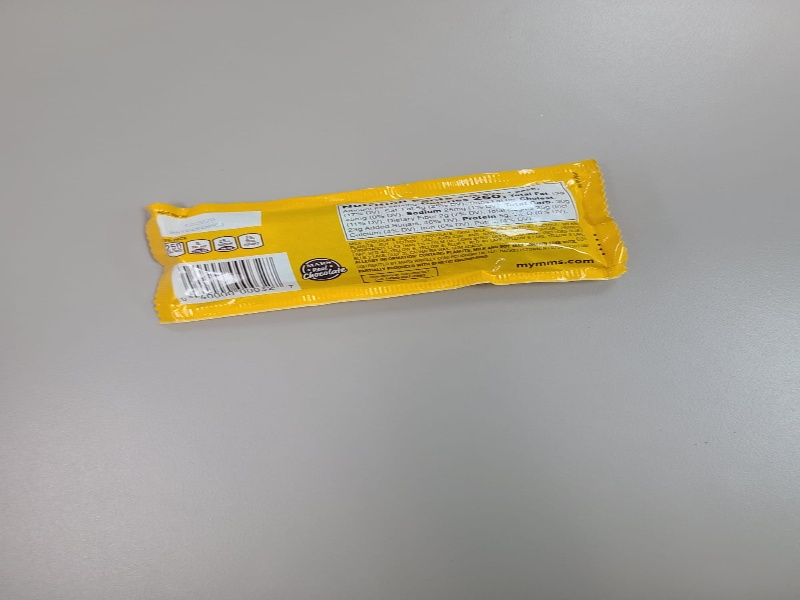m&m: (145, 157, 628, 327)
